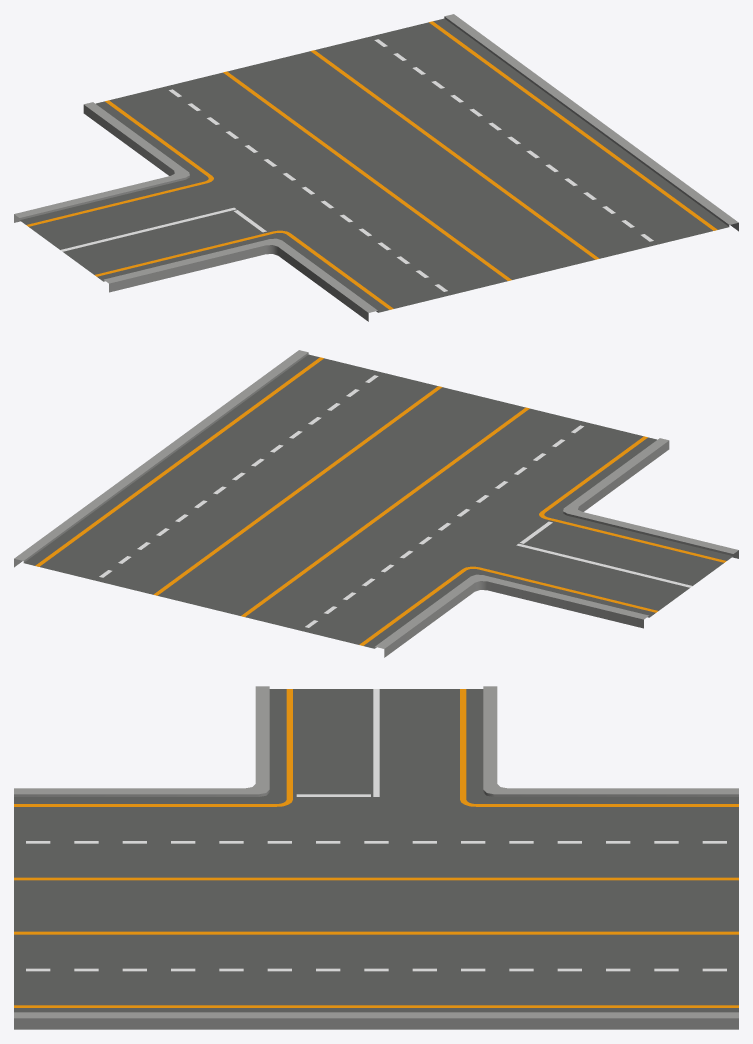
The model's file is Road_B_2L_1_4.fbx.
3 views of the same model, one above another, from view 1: azimuth 30°, elevation 25°; view 2: azimuth 150°, elevation 25°; view 3: azimuth 270°, elevation 25° (orthographic). The views are drawn at different scales.
Parts seen in each view (by area): view 1: Road_B_2L_1_4; view 2: Road_B_2L_1_4; view 3: Road_B_2L_1_4.
Part boxes in pixels (x1,y1,x2,y2): Road_B_2L_1_4: (14, 14, 738, 321); Road_B_2L_1_4: (14, 350, 738, 657); Road_B_2L_1_4: (14, 686, 738, 1029).
Size of the model in its own units: 2600 by 41.48 by 2400.
